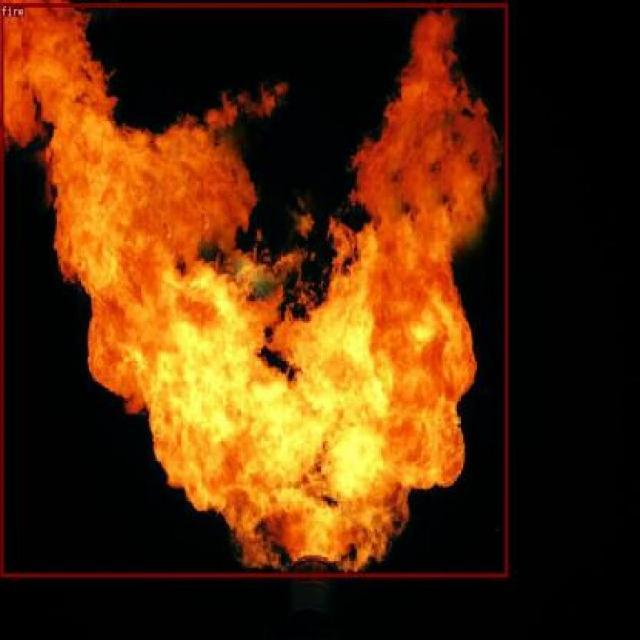Fire: (0, 2, 508, 576)
